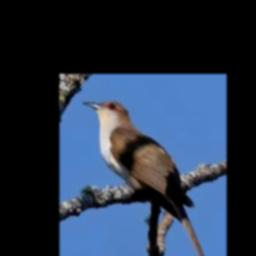Cuckoo: (82, 101, 212, 256)
